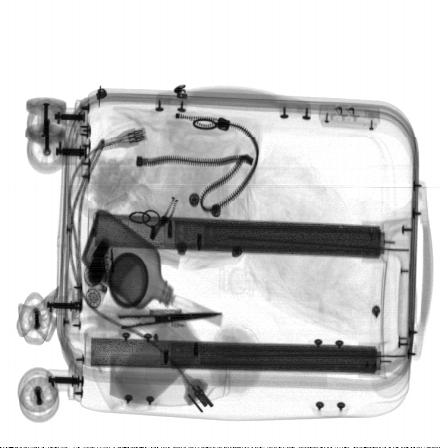Scissors: (89, 302, 225, 335)
